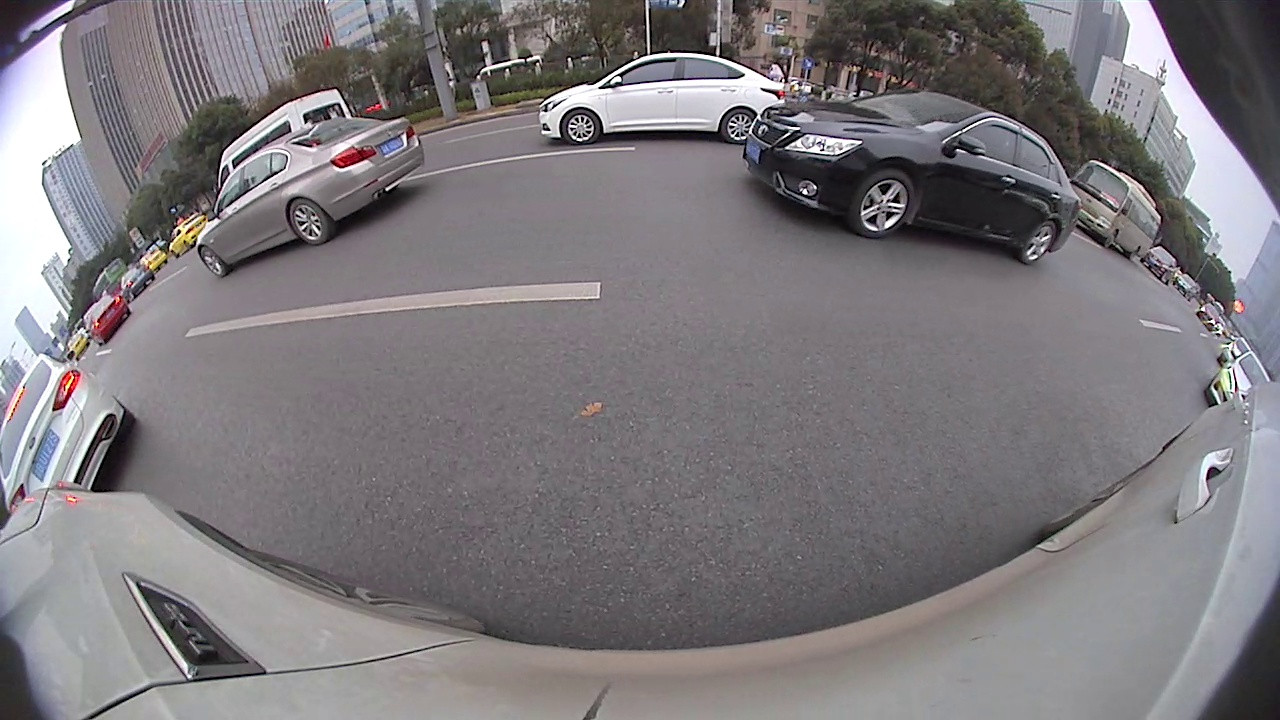bus: (1070, 160, 1159, 265)
car: (745, 90, 1112, 266), (199, 117, 426, 279), (1, 355, 131, 529), (542, 55, 788, 146), (219, 90, 345, 193), (1206, 353, 1271, 421), (83, 291, 129, 342)
front: (849, 166, 917, 239), (562, 108, 599, 144), (198, 243, 227, 278)
rear: (286, 195, 329, 245), (1021, 218, 1057, 266), (720, 106, 759, 147)
